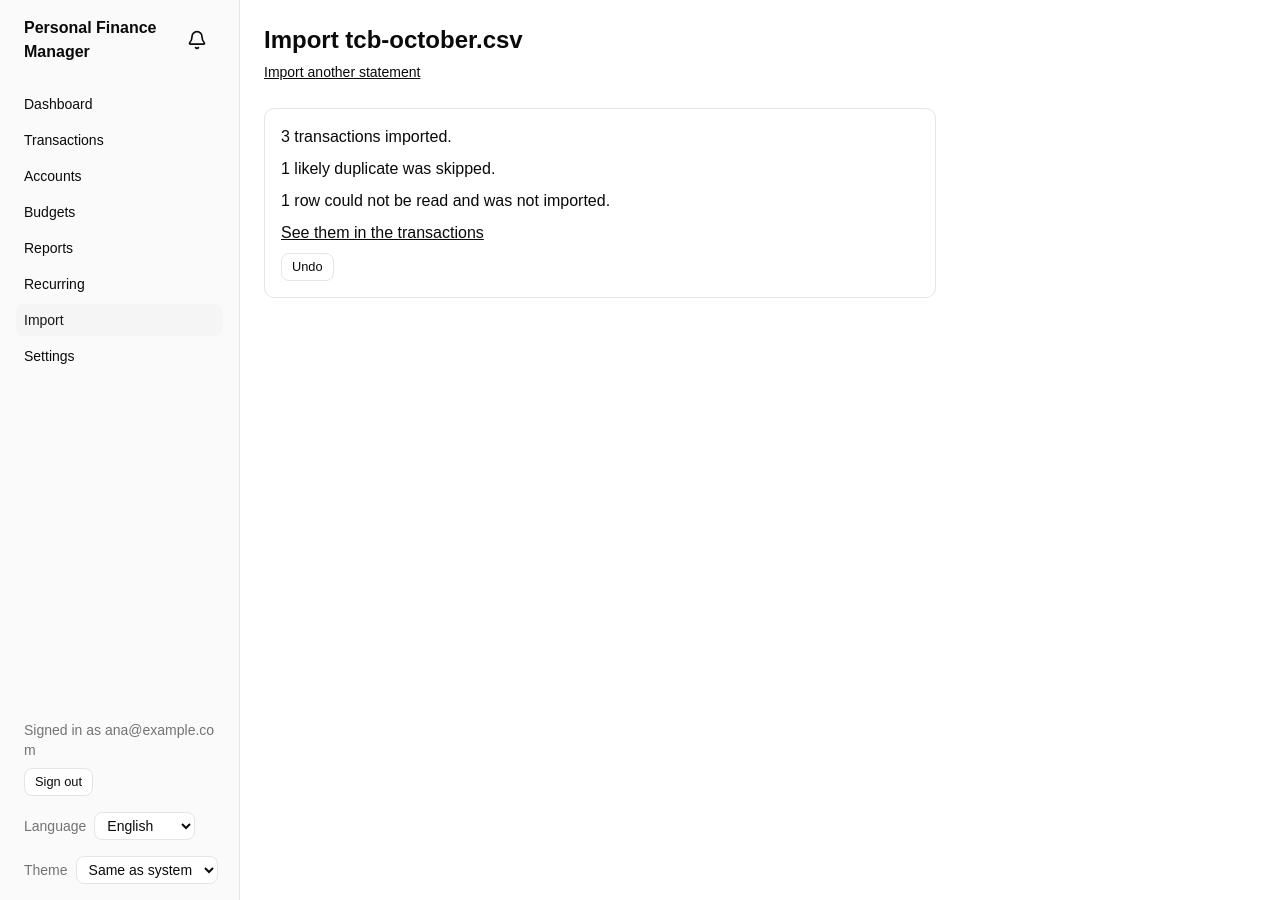
Scenario: past imports › offers to undo an import from its own screen once it is done, then says it was undone
Click the button with aria-label "Undo tcb-october.csv" at (307, 267), box left=281, top=253, right=334, bottom=281
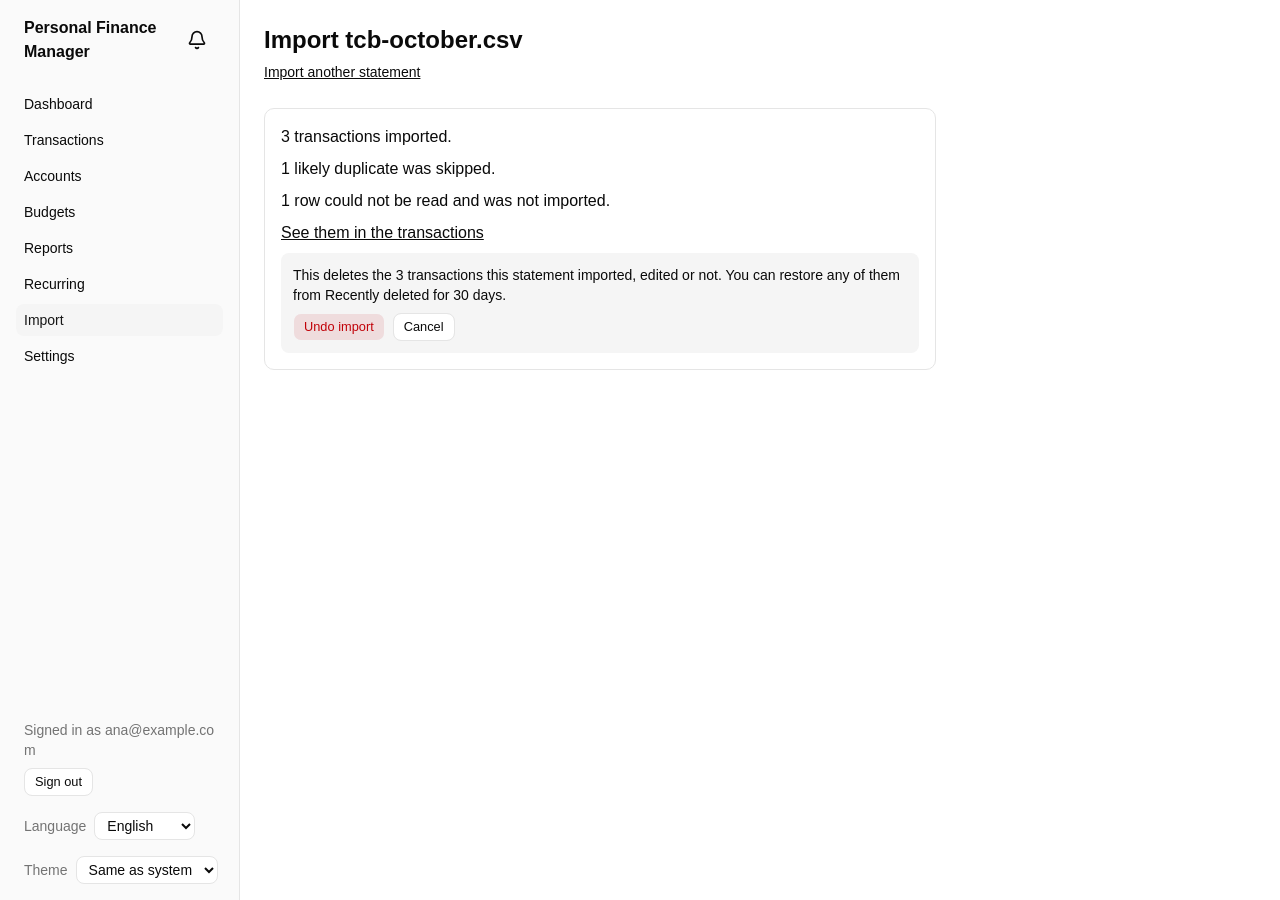
Click the button "Undo import" at (339, 327), box left=293, top=313, right=385, bottom=341
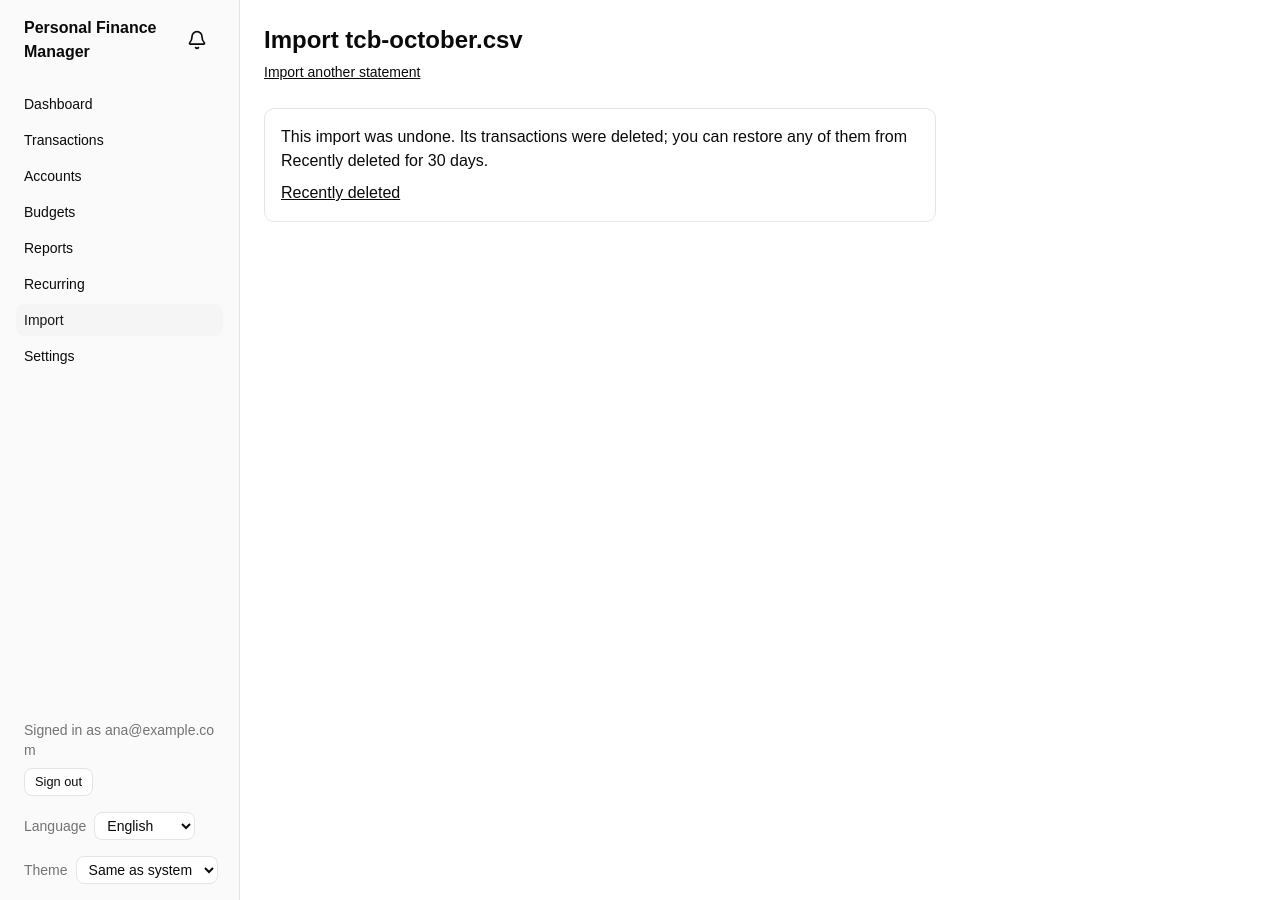
Now the text "This import was undone. Its transactions were deleted; you can restore any of them from Recently deleted for 30 days." is shown, box left=281, top=128, right=907, bottom=169
